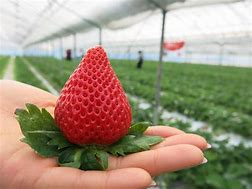Fresa: (50, 44, 135, 151)
